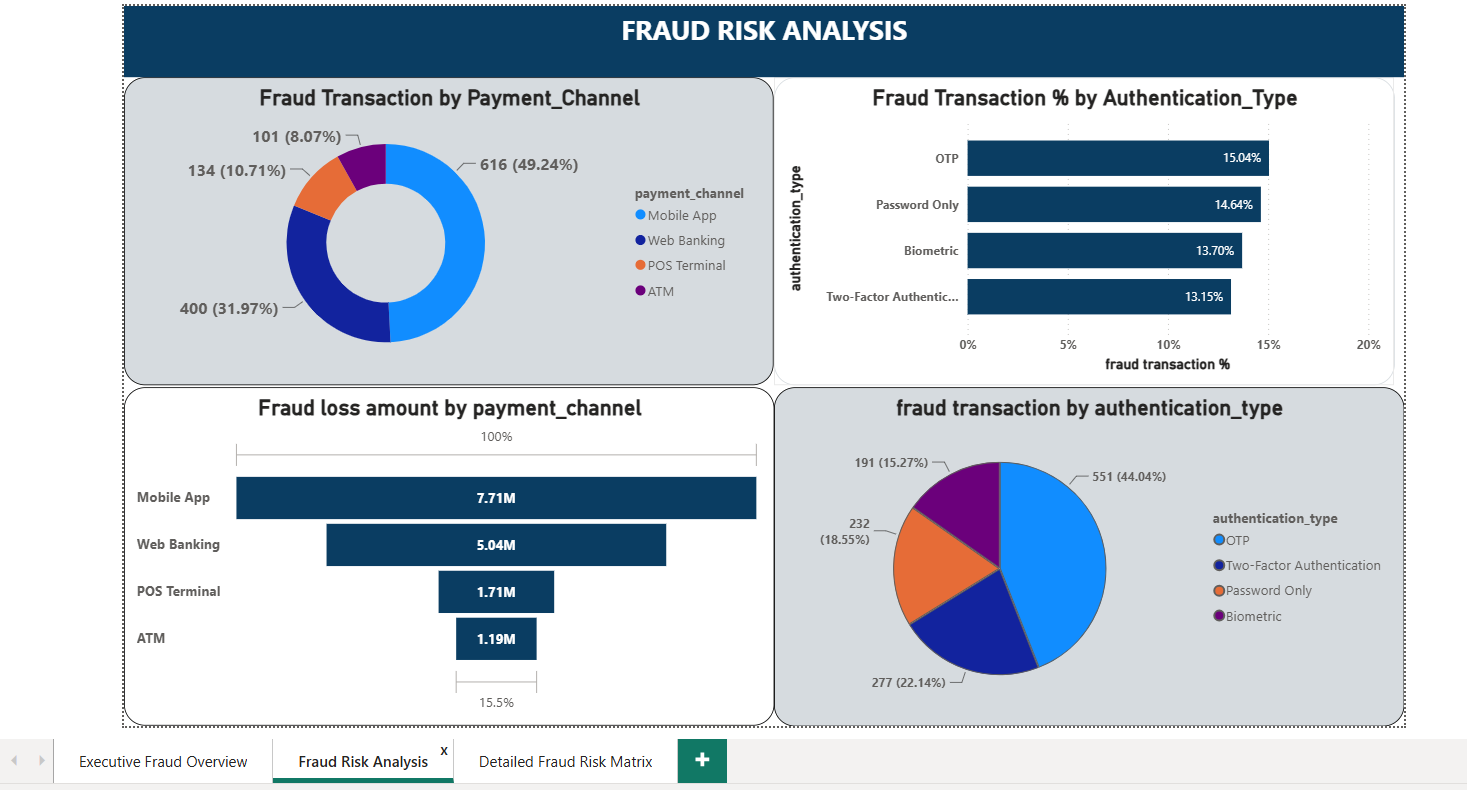

The dashboard page shown, as its layout file describes it:
{"tool":"powerbi","page":{"name":"Fraud Risk Analysis","canvas":[1280,720],"ordinal":1},"visuals":[{"type":"donutChart","title":"Fraud Transaction by Payment_Channel","fields":{"Category":["transactions.payment_channel"],"Y":["transactions.fraud transaction"]},"box":[0,71.4,649.9,308.2],"z":0},{"type":"clusteredBarChart","title":"Fraud Transaction % by Authentication_Type","fields":{"Category":["transactions.authentication_type"],"Y":["transactions.fraud transaction %"]},"box":[649.9,71.4,620.5,308.2],"z":1},{"type":"textbox","box":[0,0,1280.3,70.9],"z":2},{"type":"pieChart","fields":{"Y":["transactions.fraud transaction"],"Category":["transactions.authentication_type"]},"box":[649.9,381,630,339],"z":3},{"type":"funnel","fields":{"Y":["transactions.Fraud loss amount"],"Category":["transactions.payment_channel"]},"box":[0,381.5,650.5,338.7],"z":4}]}

Visuals, with their boxes on the page's 1280x720 design canvas (x1, y1, x2, y2). These are canvas units, not pixel positions in the 1467x790 screenshot, which may show the page scaled, cropped or inside an application window:
"Fraud Transaction by Payment_Channel" donutChart: pyautogui.locateOnScreen(0, 71, 650, 380)
"Fraud Transaction % by Authentication_Type" clusteredBarChart: pyautogui.locateOnScreen(650, 71, 1270, 380)
textbox: pyautogui.locateOnScreen(0, 0, 1280, 71)
pieChart - transactions.fraud transaction x transactions.authentication_type: pyautogui.locateOnScreen(650, 381, 1280, 720)
funnel - transactions.Fraud loss amount x transactions.payment_channel: pyautogui.locateOnScreen(0, 382, 650, 720)
